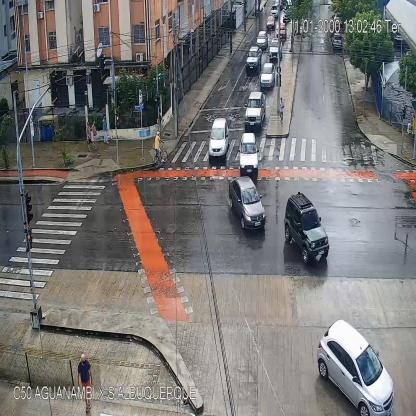bicycle: (153, 131, 168, 167)
car: (318, 319, 394, 416), (284, 193, 329, 263), (230, 177, 266, 231), (208, 117, 230, 161), (238, 133, 259, 179), (244, 91, 266, 130), (246, 46, 261, 73), (260, 63, 275, 88), (270, 38, 282, 60), (256, 30, 268, 49), (276, 23, 287, 41), (331, 31, 342, 48), (266, 15, 275, 31), (270, 4, 279, 17), (283, 9, 290, 24)
person: (78, 353, 93, 414), (86, 121, 93, 152), (102, 115, 109, 145), (92, 120, 98, 149), (280, 97, 284, 124)
